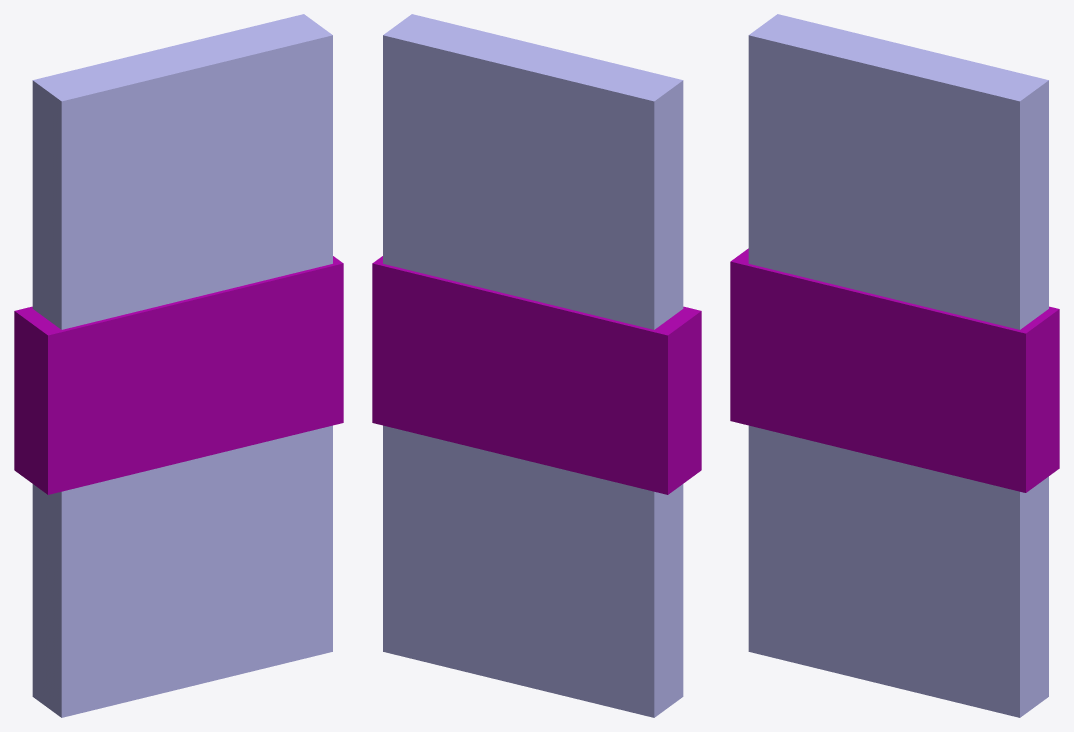
Rendered from glass shield.fbx.
The picture shows the model from 3 angles, left to right: view 1: azimuth 30°, elevation 25°; view 2: azimuth 150°, elevation 25°; view 3: azimuth 330°, elevation 25°; orthographic projection.
Parts seen in each view (by area): view 1: shield, shield_handle; view 2: shield, shield_handle; view 3: shield, shield_handle.
Boxes of the visible parts, bbox=[...] form: shield: bbox=[32, 14, 332, 717]; shield_handle: bbox=[14, 256, 343, 494]; shield: bbox=[383, 14, 683, 717]; shield_handle: bbox=[372, 256, 701, 494]; shield: bbox=[748, 14, 1048, 717]; shield_handle: bbox=[730, 248, 1059, 492].
Size of the model in its own units: 2.35 by 4.68 by 0.4631.
